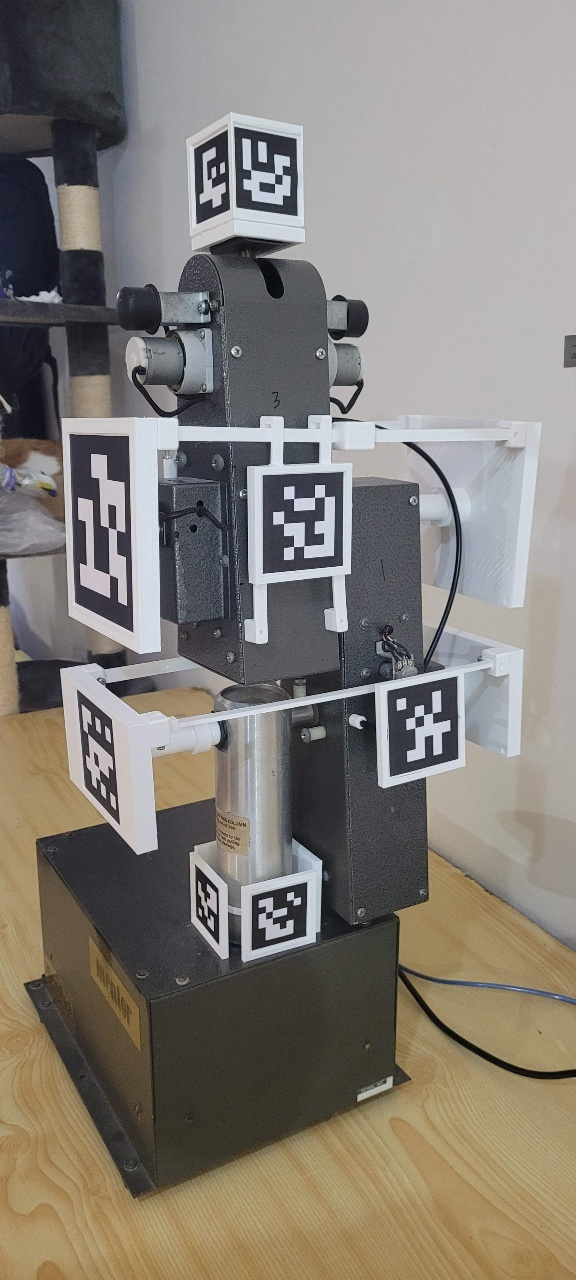Robot: (60, 111, 549, 971)
